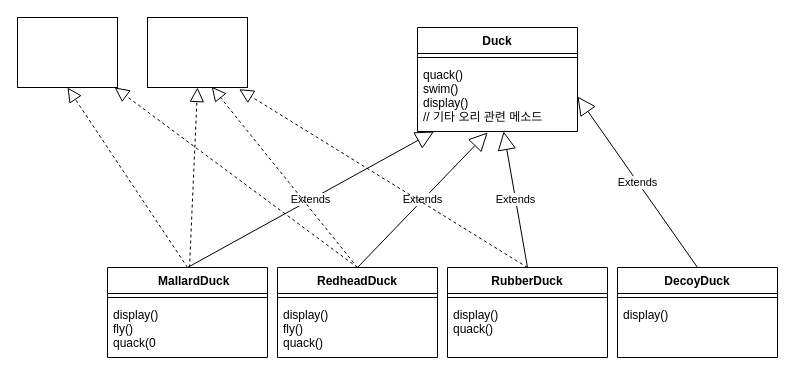
The diagram is 795 pixels wide and 378 high, and some of its shapes have lost their labels. The centre of each missing label's shape, as x and y in pixels:
"<<Interface>> Flyable fly()" goes at pixel 67 52.
"<<Interface>> Quackable quack()" goes at pixel 197 52.
